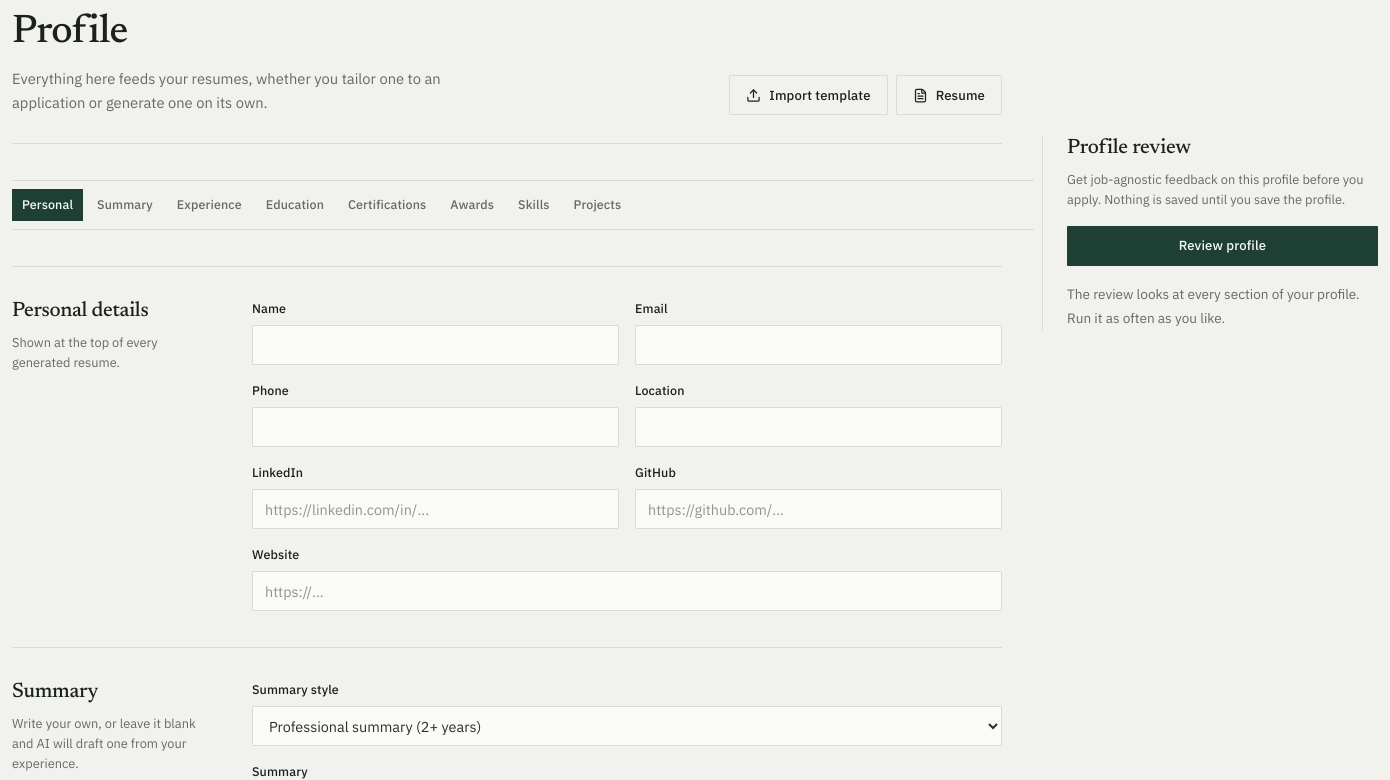
Test: ProfilePage › disables the save bar while the profile is saving
This screenshot has width=1390, height=780.
Expected: the heading "Profile" is shown, [12, 13, 128, 53]
Step 1. Type "Jane Doe" into the field labelled "Name" → [436, 345], box [252, 325, 619, 365]
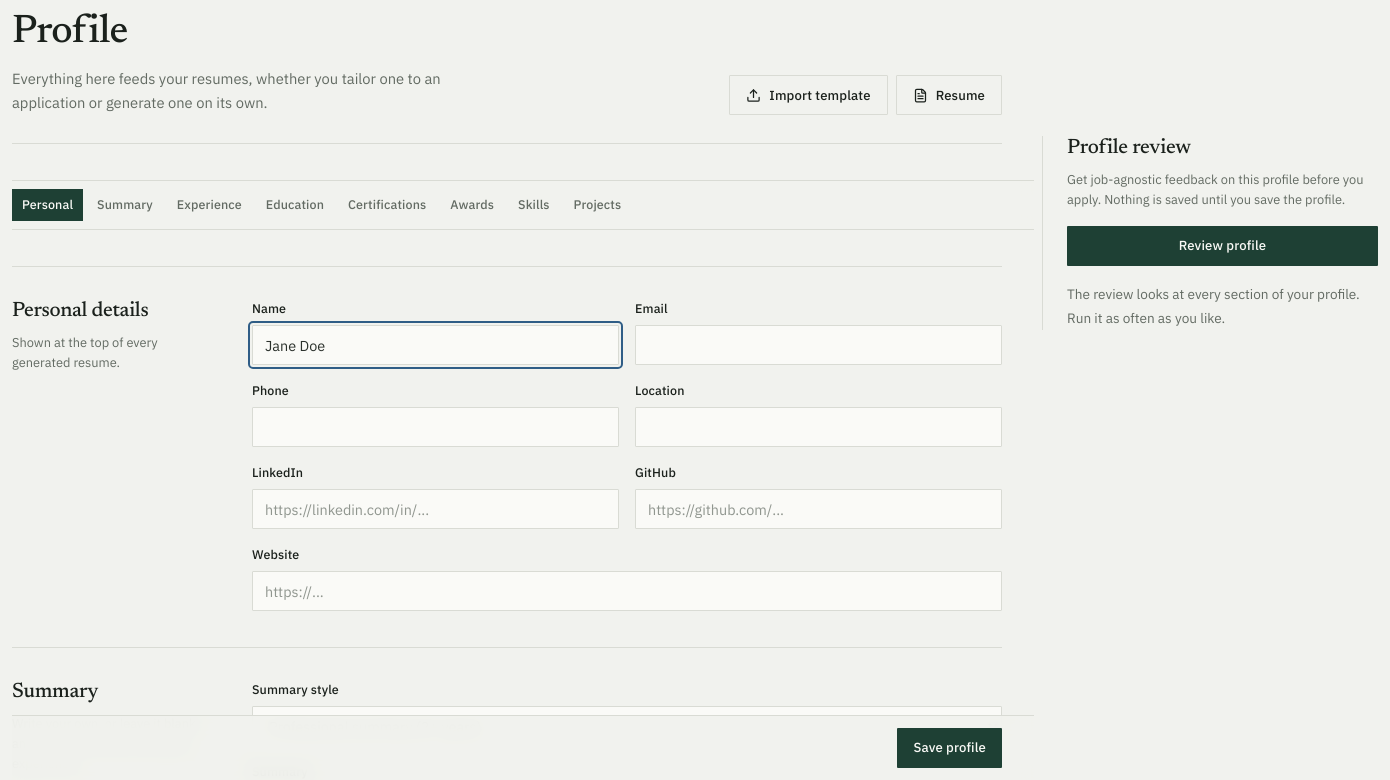
Step 2. Type "jane@example.com" into the field labelled "Email" → [818, 345], box [635, 325, 1002, 365]
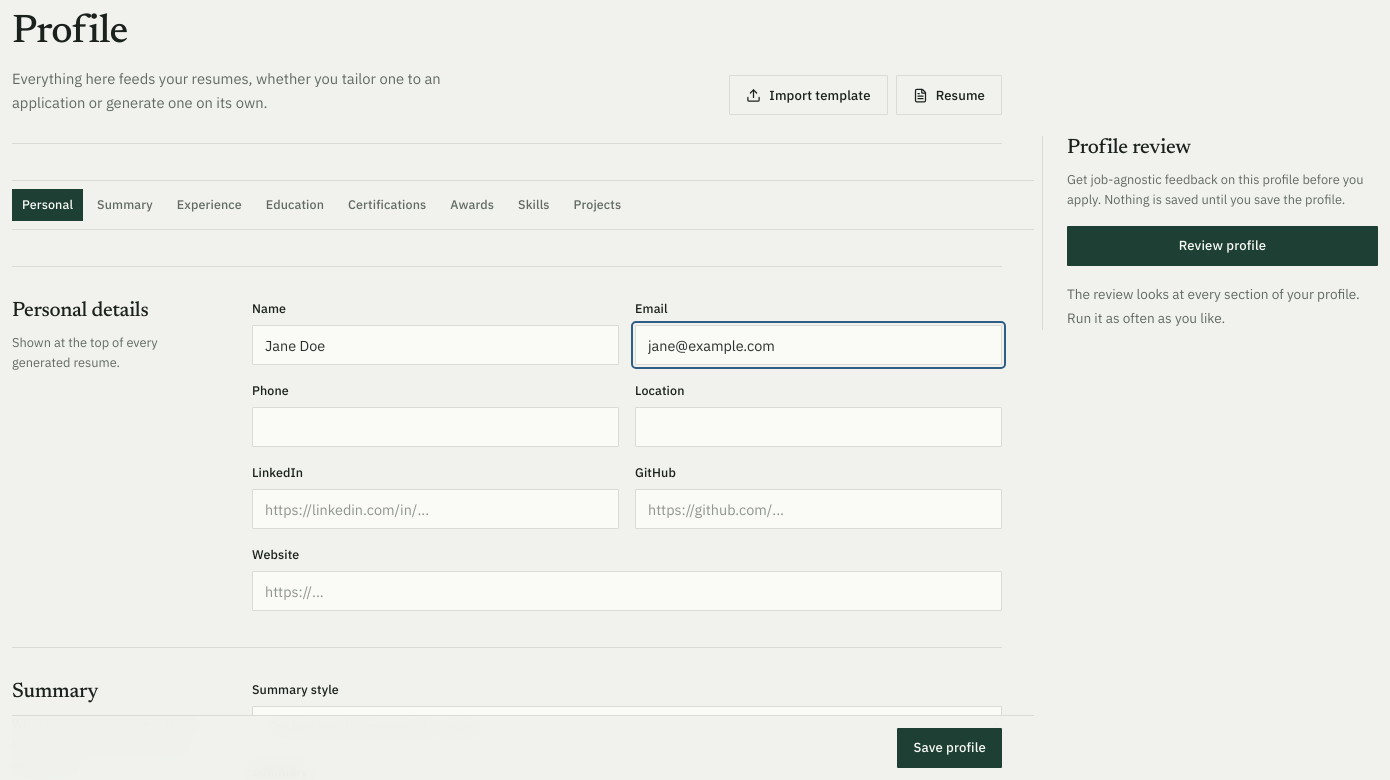
Step 3. Click the button "Save profile" → [950, 748], box [898, 728, 1002, 768]
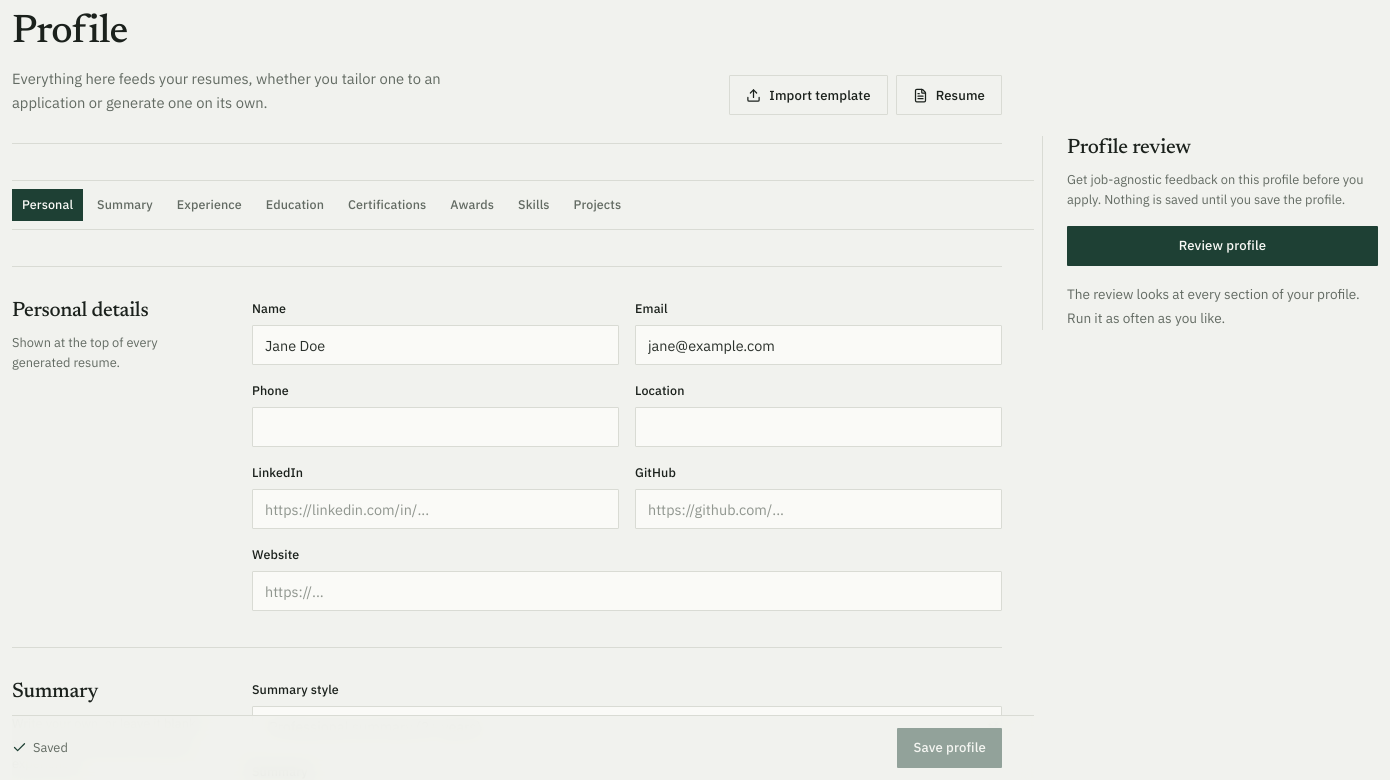
Expected: the button "Save profile" is disabled, [898, 728, 1002, 768]
Expected: the text "Saved" is shown, [12, 738, 68, 758]
